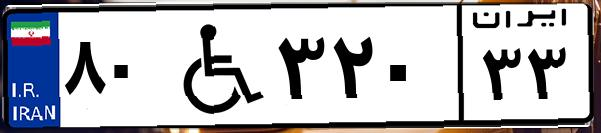0: (385, 28, 445, 110), (110, 28, 158, 98)
2: (330, 28, 385, 110)
3: (270, 28, 330, 110), (475, 38, 525, 113), (525, 38, 570, 115)
8: (57, 26, 110, 100)
ژ (معلولین و جانبازان): (158, 12, 270, 120)
